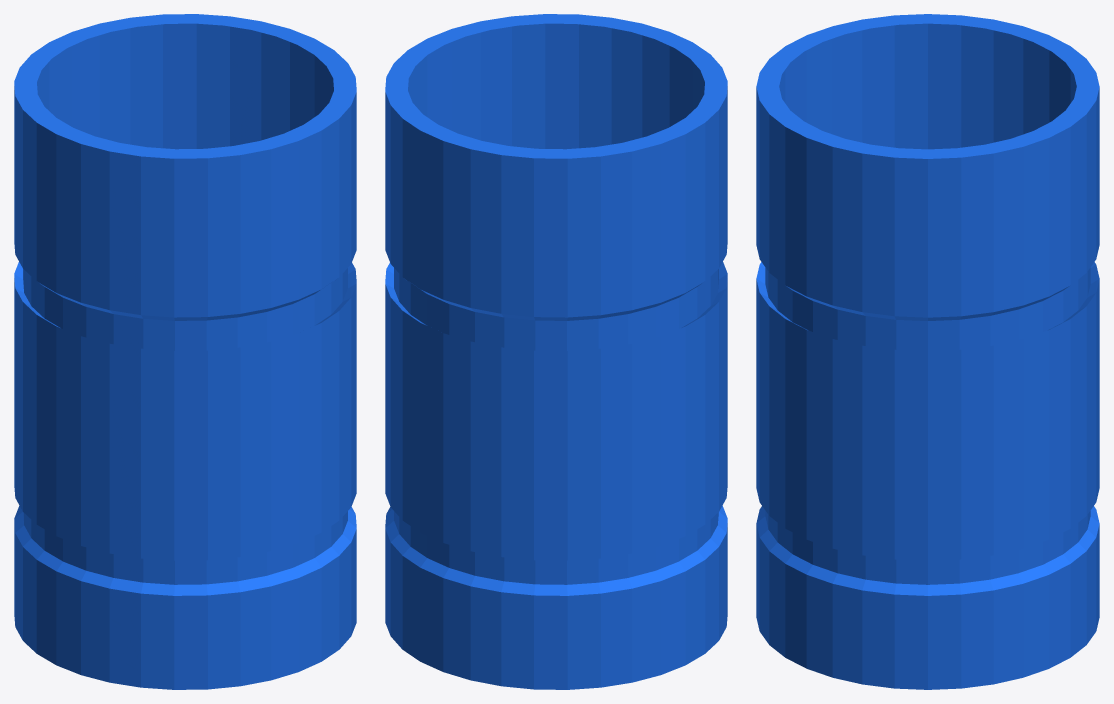
Rendered from contenedor.fbx.
The picture shows the model from 3 angles, left to right: view 1: azimuth 30°, elevation 25°; view 2: azimuth 150°, elevation 25°; view 3: azimuth 270°, elevation 25°; orthographic projection.
Visible parts, largest first — view 1: Cylinder; view 2: Cylinder; view 3: Cylinder.
Boxes of the visible parts, box(x1,y1,x2,y2) form: Cylinder: box(14, 14, 356, 689); Cylinder: box(385, 14, 727, 689); Cylinder: box(756, 14, 1099, 689).
Bounding box in the file's own units: 638 × 1089 × 638.
